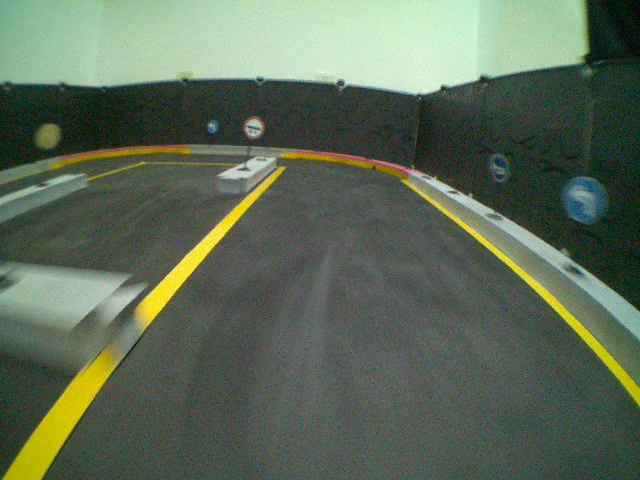Check: (243, 116, 264, 140)
horn: (490, 153, 510, 184)
turn: (563, 175, 610, 225), (205, 118, 219, 135)
